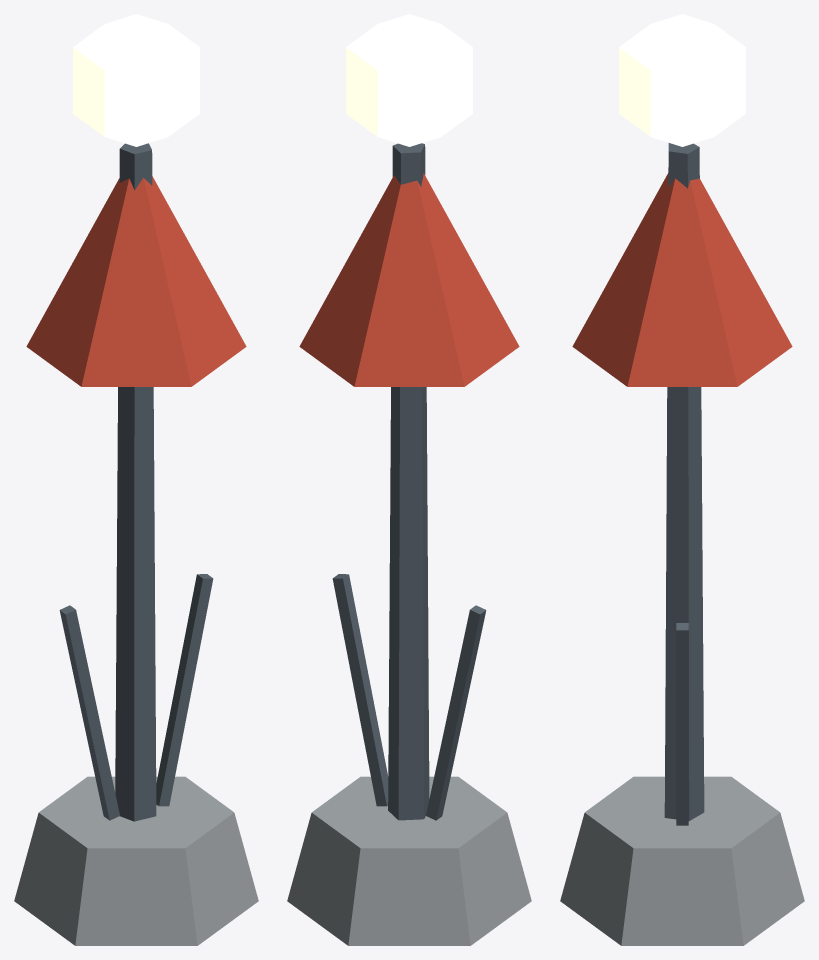
The model's file is marker.glb.
3 renders of one model, left to right at view 1: azimuth 30°, elevation 25°; view 2: azimuth 150°, elevation 25°; view 3: azimuth 270°, elevation 25°, orthographic.
Parts seen in each view (by area): view 1: Body, Daymark, Lamp; view 2: Body, Daymark, Lamp; view 3: Body, Daymark, Lamp.
Boxes of the visible parts, x1,y1,x2,y2 form: Body: (14, 143, 258, 945); Daymark: (26, 176, 246, 386); Lamp: (73, 14, 199, 146); Body: (287, 143, 531, 945); Daymark: (299, 173, 519, 386); Lamp: (346, 14, 472, 146); Body: (560, 143, 804, 945); Daymark: (572, 173, 792, 386); Lamp: (619, 14, 745, 146).
Bounding box in the file's own units: 0.866 × 4 × 1.
